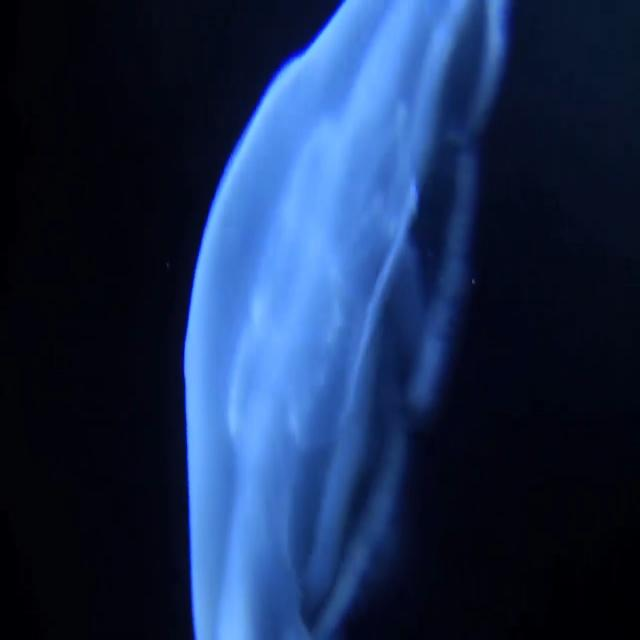Moon-jellyfish: (184, 0, 509, 639)
